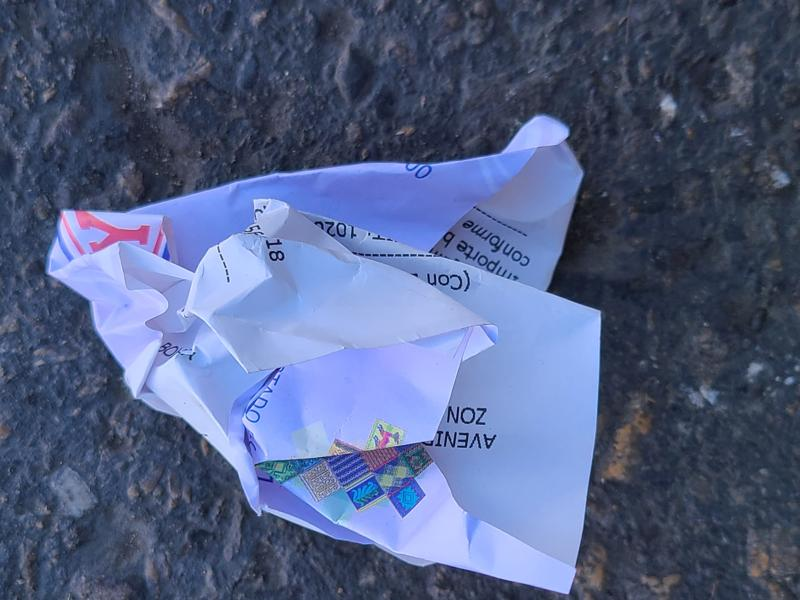papel: (45, 116, 602, 596)
